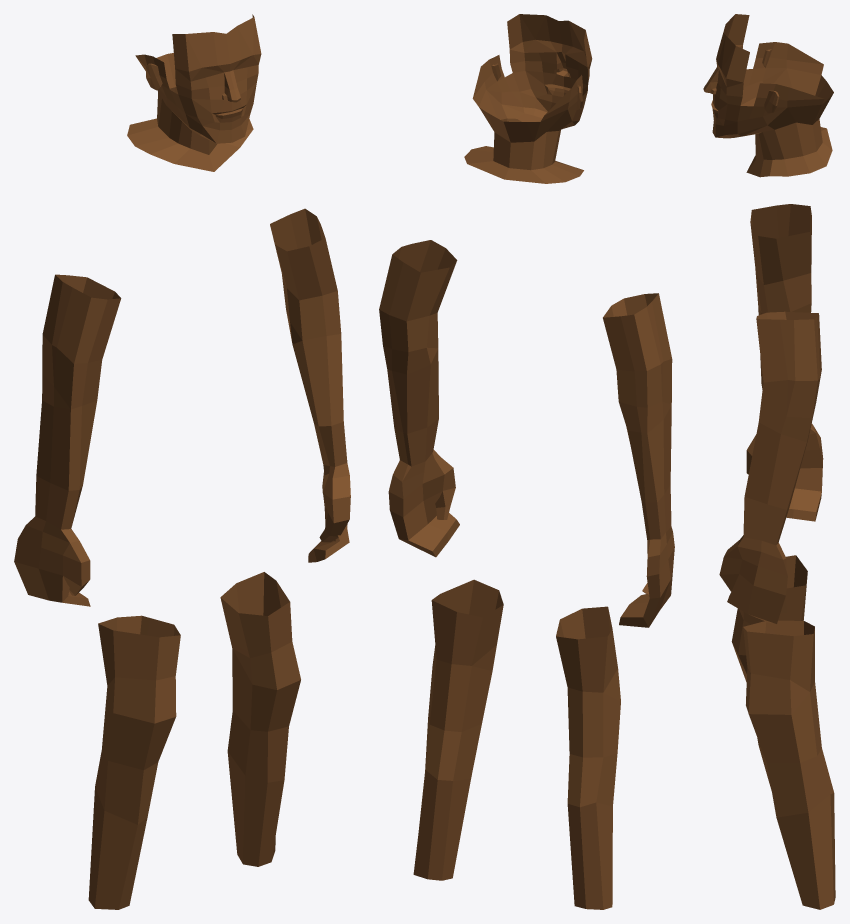
Rendered from Skin_008.obj.
The picture shows the model from 3 angles, left to right: view 1: azimuth 30°, elevation 25°; view 2: azimuth 150°, elevation 25°; view 3: azimuth 270°, elevation 25°; orthographic projection. The views are drawn at different scales.
Size of the model in its own units: 0.6313 by 1.76 by 0.2517.
